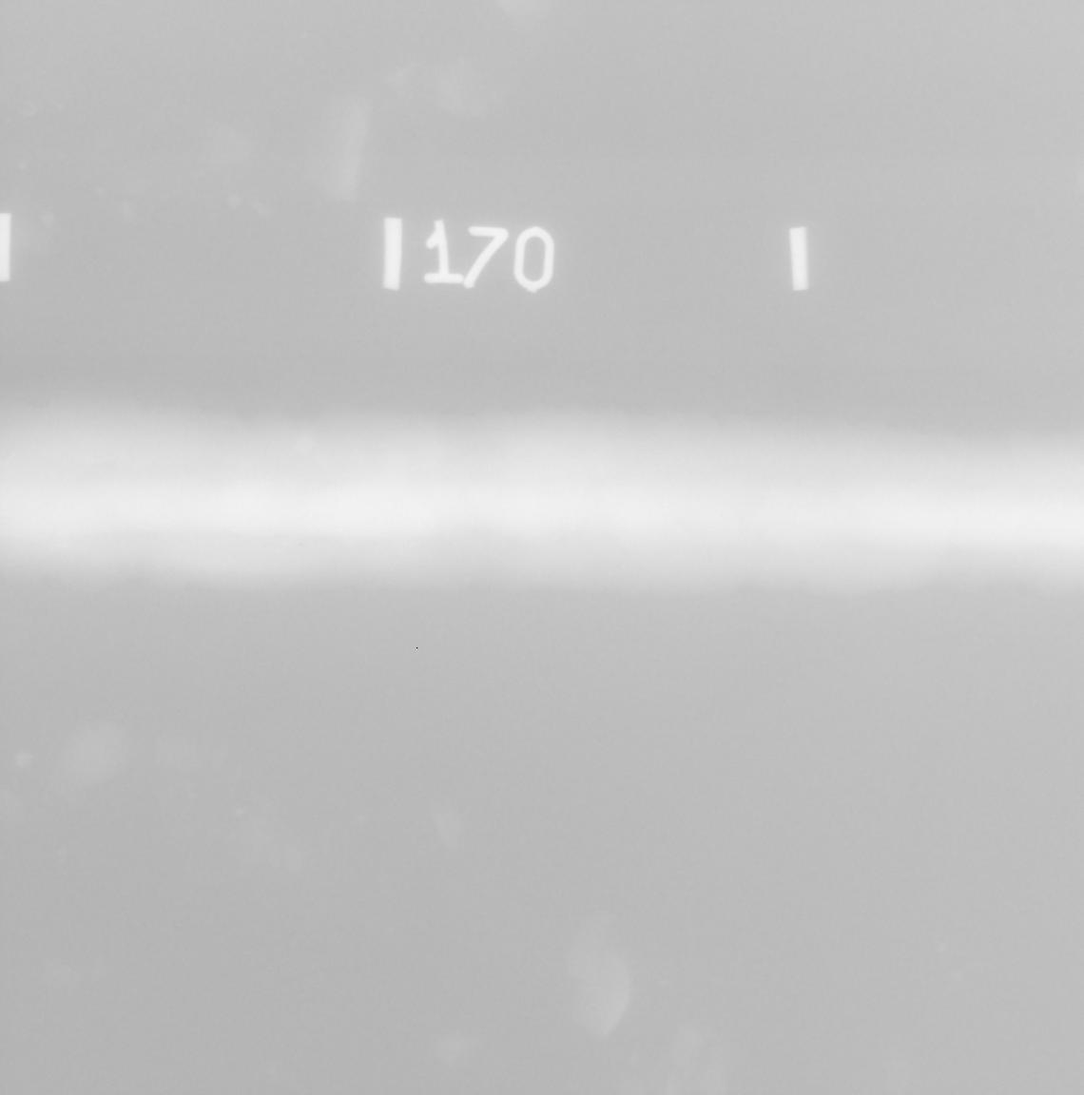Inclusion: (263, 544, 270, 547), (300, 544, 304, 546)
